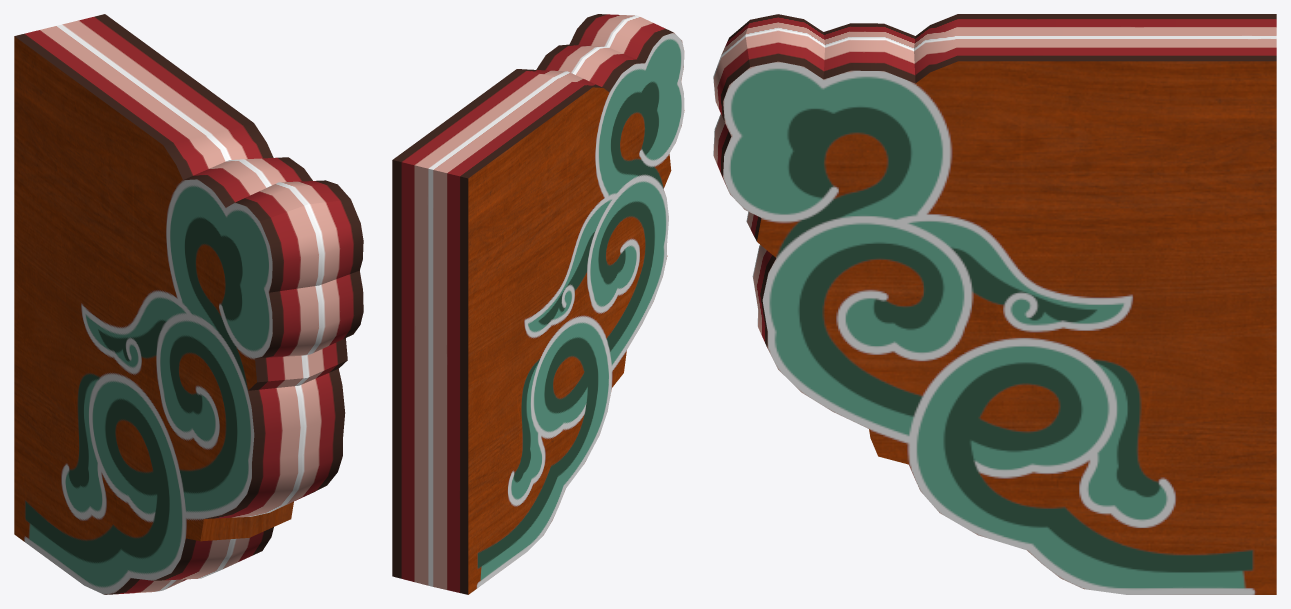
The model's file is SM_Gongpo04A.fbx.
The picture shows the model from 3 angles, left to right: view 1: azimuth 30°, elevation 25°; view 2: azimuth 150°, elevation 25°; view 3: azimuth 270°, elevation 25°; orthographic projection. The views are drawn at different scales.
Parts seen in each view (by area): view 1: SM_Gongpo04A; view 2: SM_Gongpo04A; view 3: SM_Gongpo04A.
Boxes of the visible parts, x1,y1,x2,y2 form: SM_Gongpo04A: [14, 14, 363, 594]; SM_Gongpo04A: [392, 14, 684, 594]; SM_Gongpo04A: [713, 14, 1276, 594].
Size of the model in its own units: 6.75 by 33.86 by 36.01.
